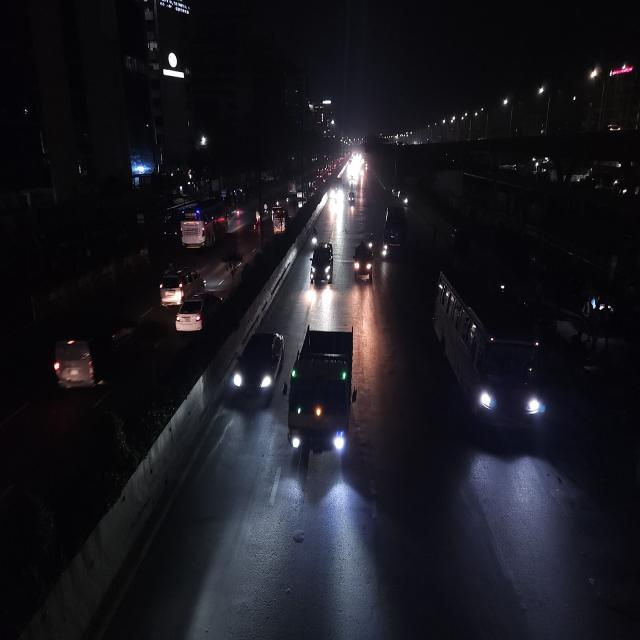bus: (431, 262, 547, 454), (176, 198, 233, 250), (381, 203, 406, 259)
car: (54, 304, 140, 412), (229, 328, 286, 414), (177, 293, 226, 342), (155, 263, 207, 302), (309, 239, 336, 287)
cng: (347, 190, 355, 208)
motorcycle: (310, 226, 319, 248)
pickup_van: (352, 241, 374, 287)
truck: (286, 322, 358, 467)
